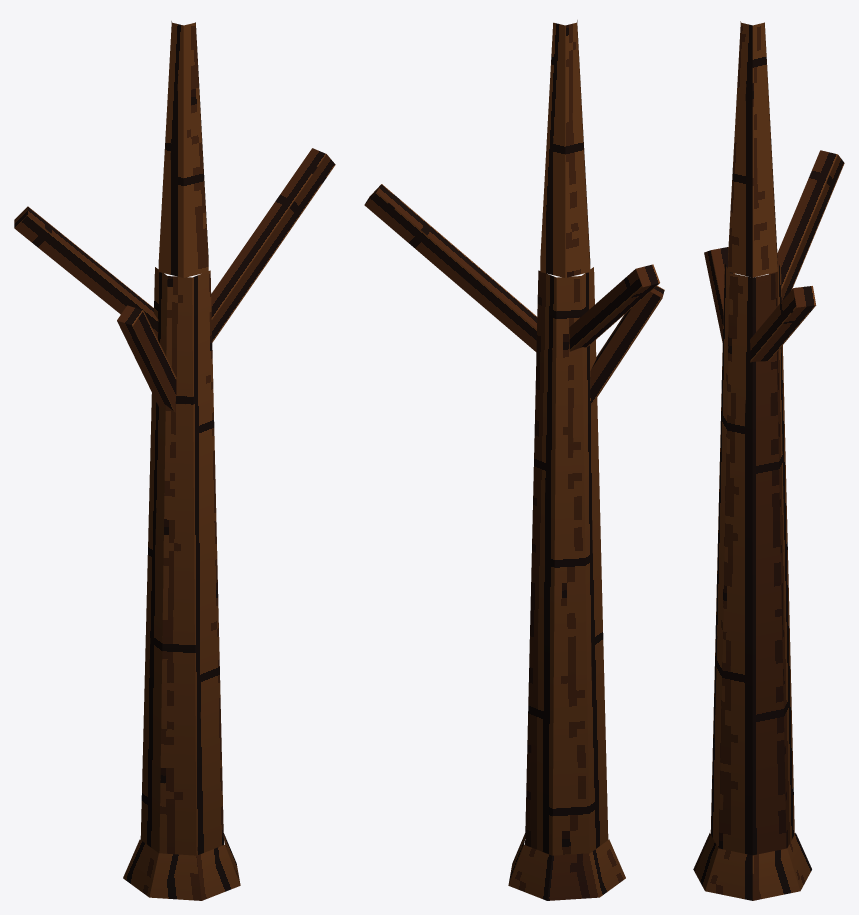
The model's file is birch_3_trunk.glb.
The picture shows the model from 3 angles, left to right: view 1: azimuth 30°, elevation 25°; view 2: azimuth 150°, elevation 25°; view 3: azimuth 270°, elevation 25°; orthographic projection.
Parts seen in each view (by area): view 1: birch_3_trunk; view 2: birch_3_trunk; view 3: birch_3_trunk.
Part boxes in pixels (x1,y1,x2,y2): birch_3_trunk: (14, 21, 335, 900); birch_3_trunk: (364, 20, 664, 900); birch_3_trunk: (693, 21, 844, 900).
Size of the model in its own units: 2.08 by 5.57 by 0.8931.
Materials: 1 (1 with a texture image).
